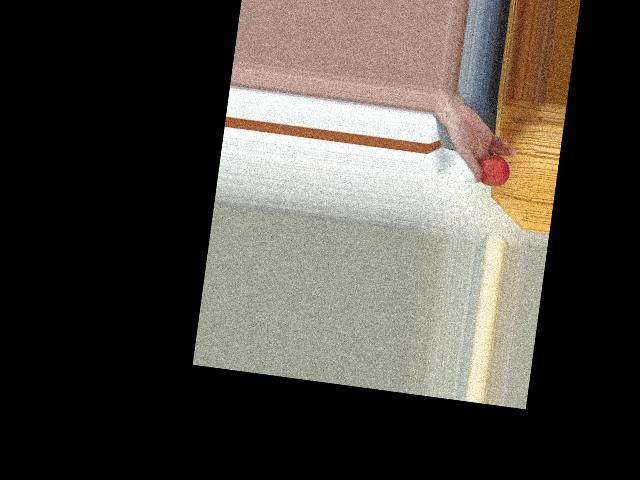apple: (471, 147, 512, 189)
